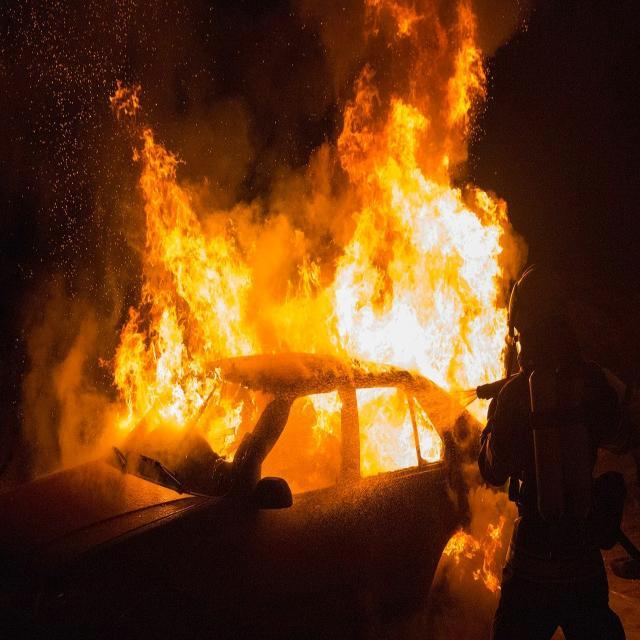fire: (82, 95, 542, 548)
